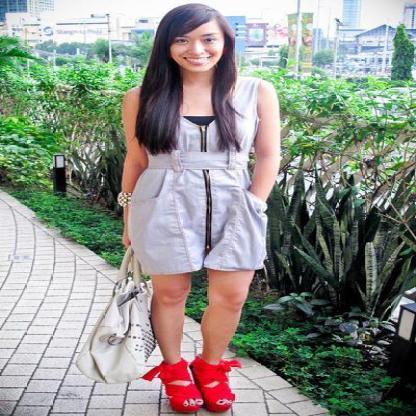bag: (62, 272, 164, 385)
dress: (118, 75, 268, 274)
shoe: (140, 358, 236, 405)
